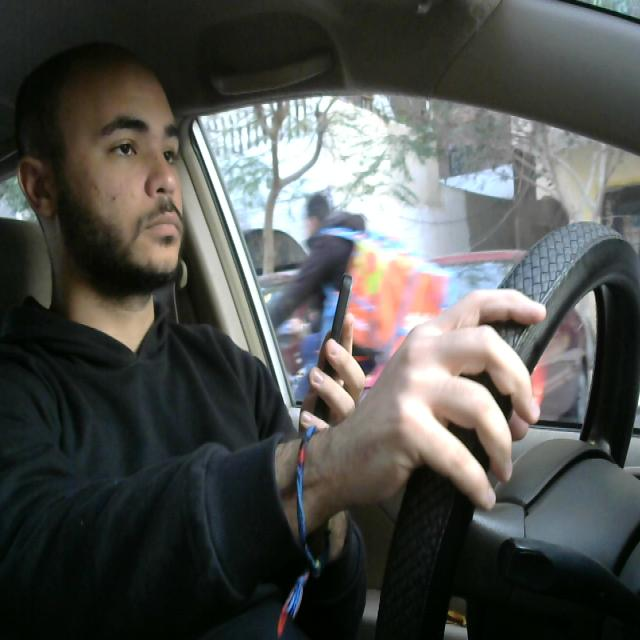mobile use: (309, 275, 354, 431)
